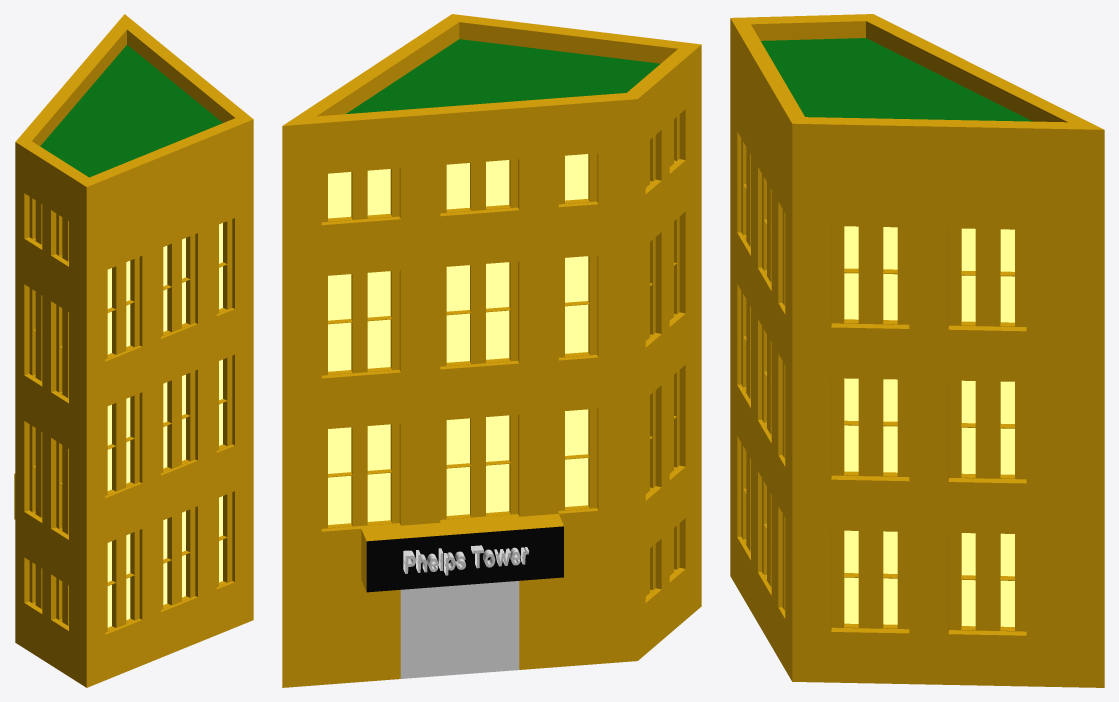
The model's file is phelps_tower.fbx.
3 renders of one model, left to right at view 1: azimuth 30°, elevation 25°; view 2: azimuth 150°, elevation 25°; view 3: azimuth 270°, elevation 25°, orthographic. The views are drawn at different scales.
Parts seen in each view (by area): view 1: phelps_tower; view 2: phelps_tower; view 3: phelps_tower.
Boxes of the visible parts, x1,y1,x2,y2 form: phelps_tower: (14,14,253,687); phelps_tower: (282,14,701,687); phelps_tower: (730,14,1104,687).
Size of the model in its own units: 134 by 300 by 182.
